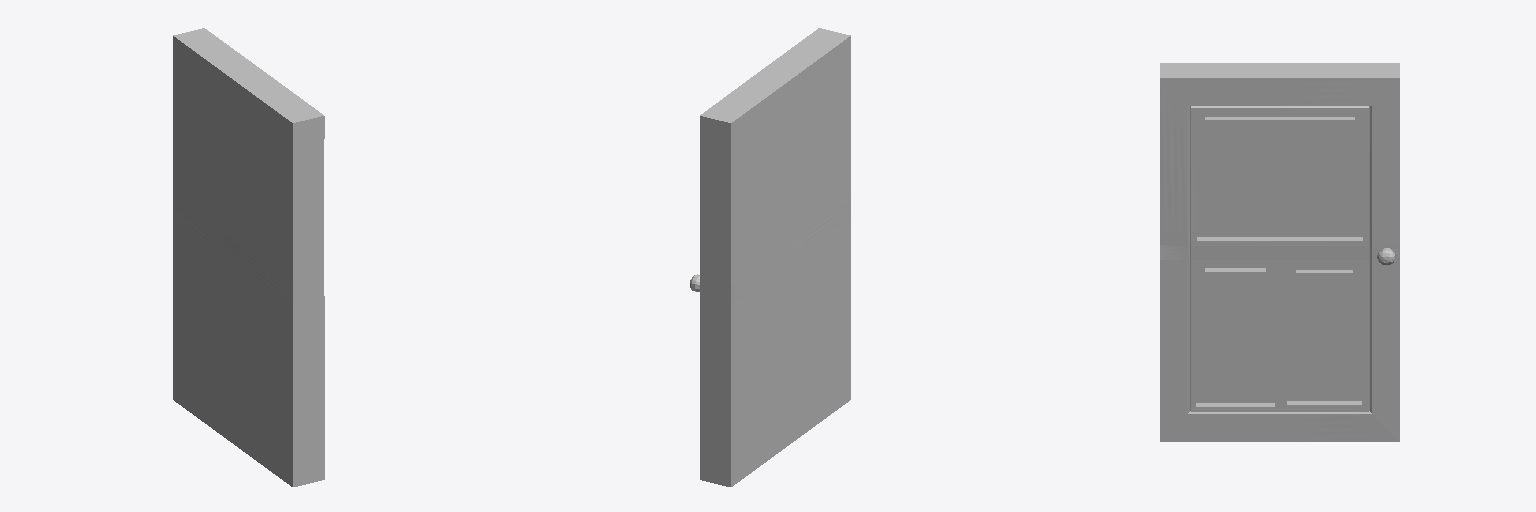
Rendered from Door.obj.
3 renders of one model, left to right at view 1: azimuth 30°, elevation 25°; view 2: azimuth 150°, elevation 25°; view 3: azimuth 270°, elevation 25°, orthographic.
Parts seen in each view (by area): view 1: Cube; view 2: Cube; view 3: Cube.
Part boxes in pixels (left/top/right/bottom): Cube: left=173, top=28, right=324, bottom=486; Cube: left=690, top=28, right=850, bottom=486; Cube: left=1160, top=63, right=1399, bottom=441.
Size of the model in its own units: 0.519 by 3.89 by 2.32.